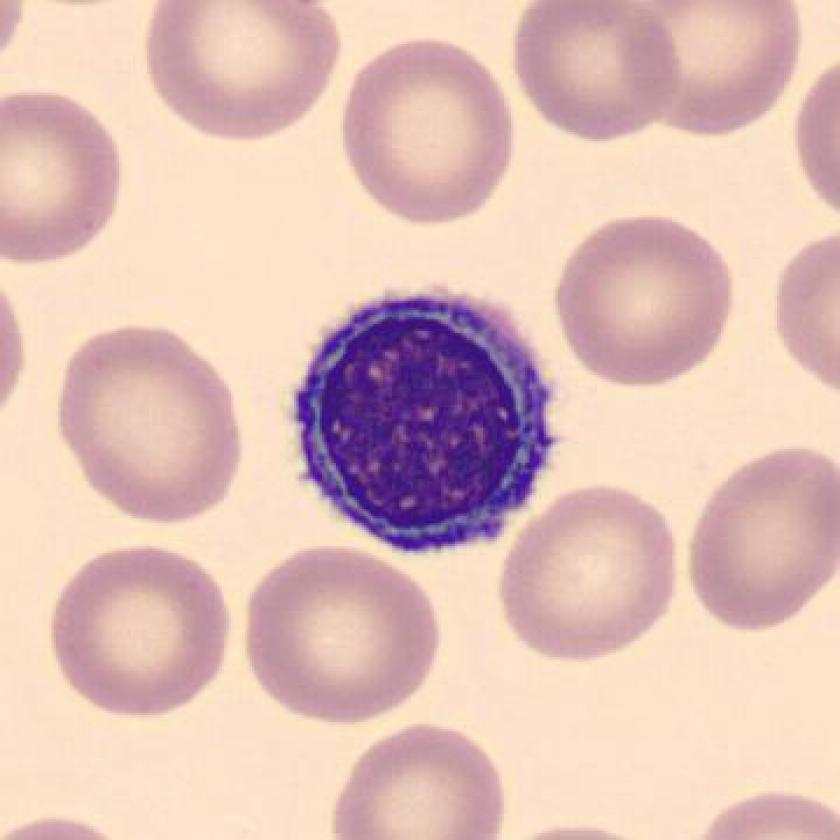lymphocyte: (279, 272, 570, 580)
